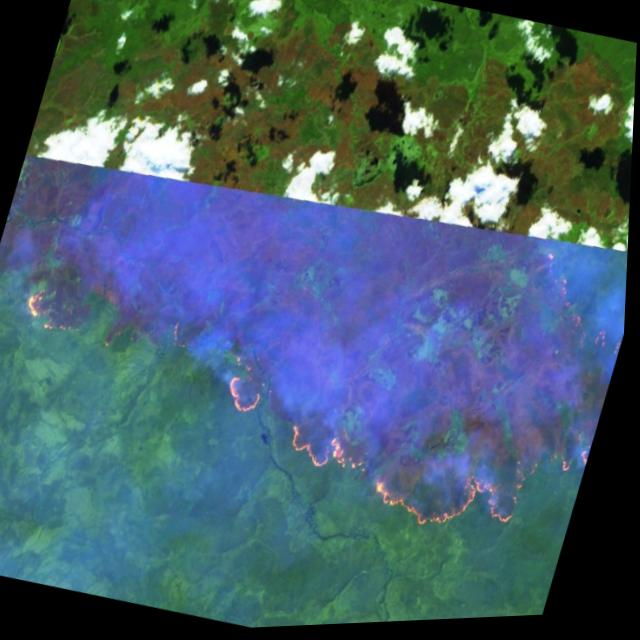fire: (0, 111, 635, 591)
